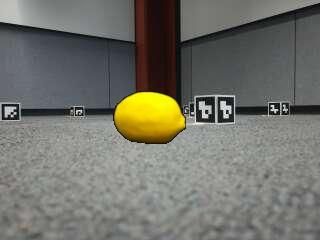lemon: (115, 93, 186, 144)
